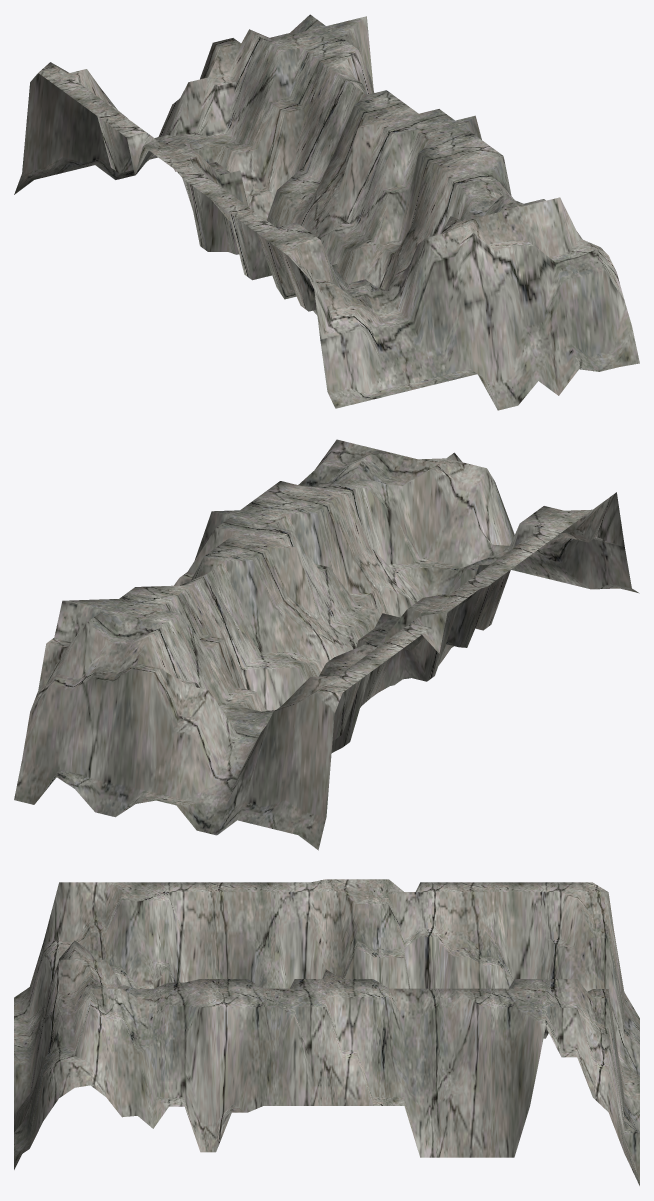
Rendered from DWARF_PALACE_MAINHALL_CELLING02C.fbx.
The picture shows the model from 3 angles, top to bottom: view 1: azimuth 30°, elevation 25°; view 2: azimuth 150°, elevation 25°; view 3: azimuth 270°, elevation 25°; orthographic projection. The views are drawn at different scales.
Visible parts, largest first — view 1: DWARF_PALACE_MAINHALL_CELLING02C; view 2: DWARF_PALACE_MAINHALL_CELLING02C; view 3: DWARF_PALACE_MAINHALL_CELLING02C.
Boxes of the visible parts, x1,y1,x2,y2 form: DWARF_PALACE_MAINHALL_CELLING02C: (14,14,639,410); DWARF_PALACE_MAINHALL_CELLING02C: (14,439,639,850); DWARF_PALACE_MAINHALL_CELLING02C: (14,879,639,1185).
Size of the model in its own units: 284038 by 149103 by 519418.
1 material, 1 textured.
